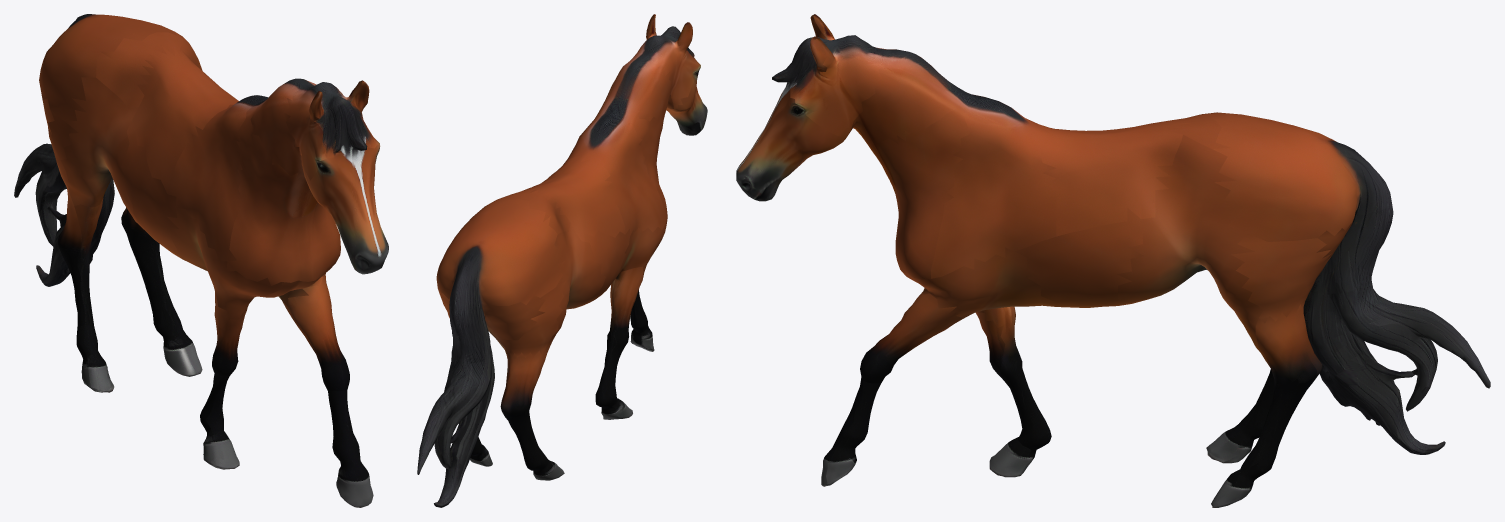
File: horse.glb
The picture shows the model from 3 angles, left to right: view 1: azimuth 30°, elevation 25°; view 2: azimuth 150°, elevation 25°; view 3: azimuth 270°, elevation 25°; orthographic projection. The views are drawn at different scales.
Parts seen in each view (by area): view 1: mesh_node; view 2: mesh_node; view 3: mesh_node.
Part boxes in pixels (x1,y1,x2,y2): mesh_node: (14,14,388,507); mesh_node: (417,14,707,507); mesh_node: (736,14,1490,507).
Size of the model in its own units: 0.411 by 1.28 by 1.91.
Materials: 1 (1 with a texture image).
